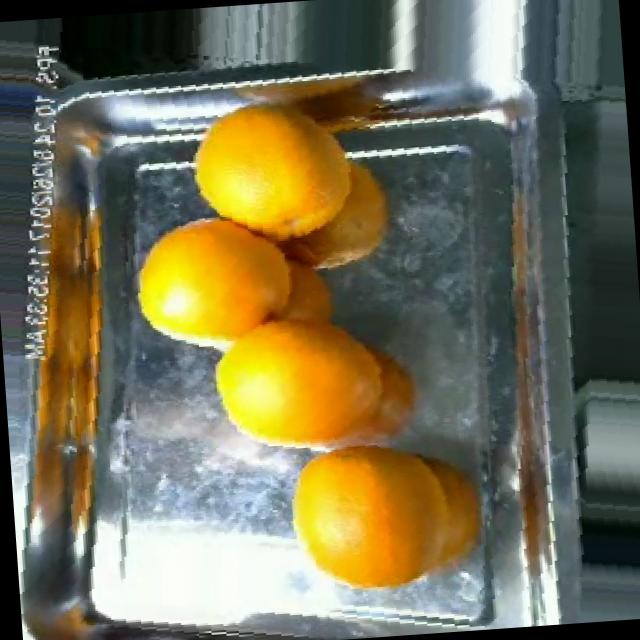Fruit: (115, 198, 308, 368), (251, 142, 409, 286), (170, 94, 331, 234), (44, 7, 215, 82)
